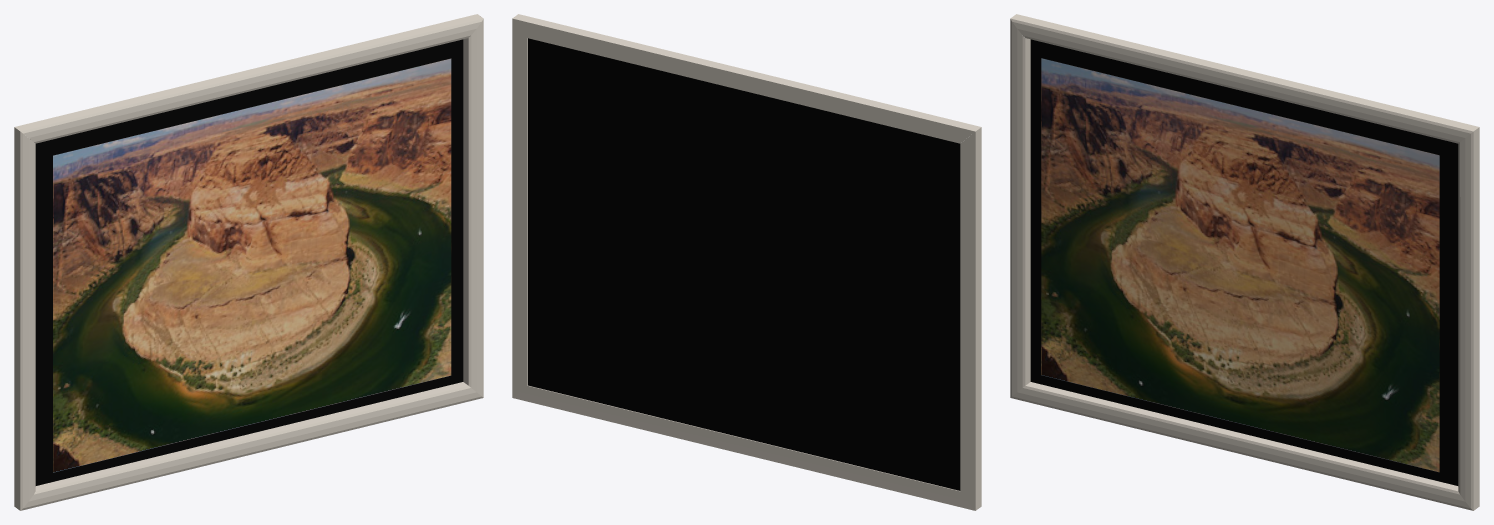
Rendered from sweethome3d-contributions-frame-horse-shoe-bend.glb.
3 views of the same model, side by side, from view 1: azimuth 30°, elevation 25°; view 2: azimuth 150°, elevation 25°; view 3: azimuth 330°, elevation 25° (orthographic).
Parts seen in each view (by area): view 1: Photo_Cube_Material_HorseShoeBend, MetalFrame_Cylinder_Aluminium.005, Frame_Black_Material.006; view 2: Frame_Black_Material.006, MetalFrame_Cylinder_Aluminium.005; view 3: Photo_Cube_Material_HorseShoeBend, MetalFrame_Cylinder_Aluminium.005, Frame_Black_Material.006.
Boxes of the visible parts, <box> form: Photo_Cube_Material_HorseShoeBend: <box>53,58,451,472</box>; MetalFrame_Cylinder_Aluminium.005: <box>14,14,483,510</box>; Frame_Black_Material.006: <box>35,39,463,485</box>; Frame_Black_Material.006: <box>528,38,960,490</box>; MetalFrame_Cylinder_Aluminium.005: <box>512,14,981,510</box>; Photo_Cube_Material_HorseShoeBend: <box>1041,58,1439,472</box>; MetalFrame_Cylinder_Aluminium.005: <box>1010,14,1479,510</box>; Frame_Black_Material.006: <box>1030,39,1458,485</box>.
Bounding box in the file's own units: 61.16 × 47.86 × 1.6.
3 materials, 1 textured.
